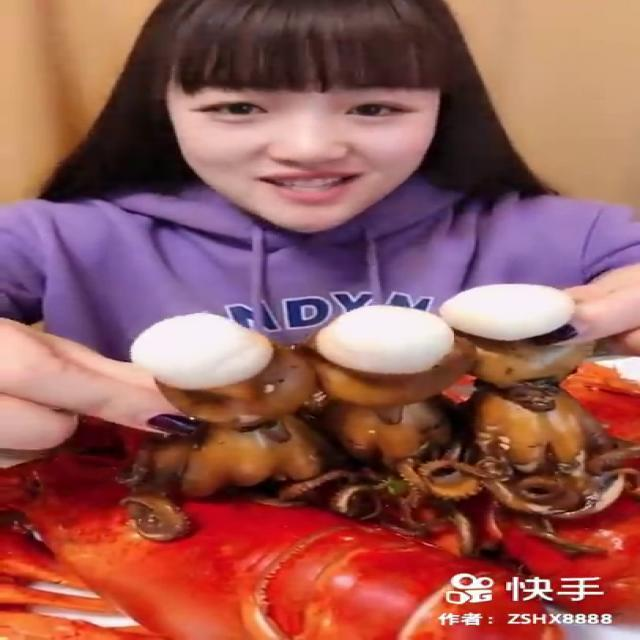octopus: (303, 306, 581, 570), (106, 314, 352, 542), (442, 282, 640, 542)
